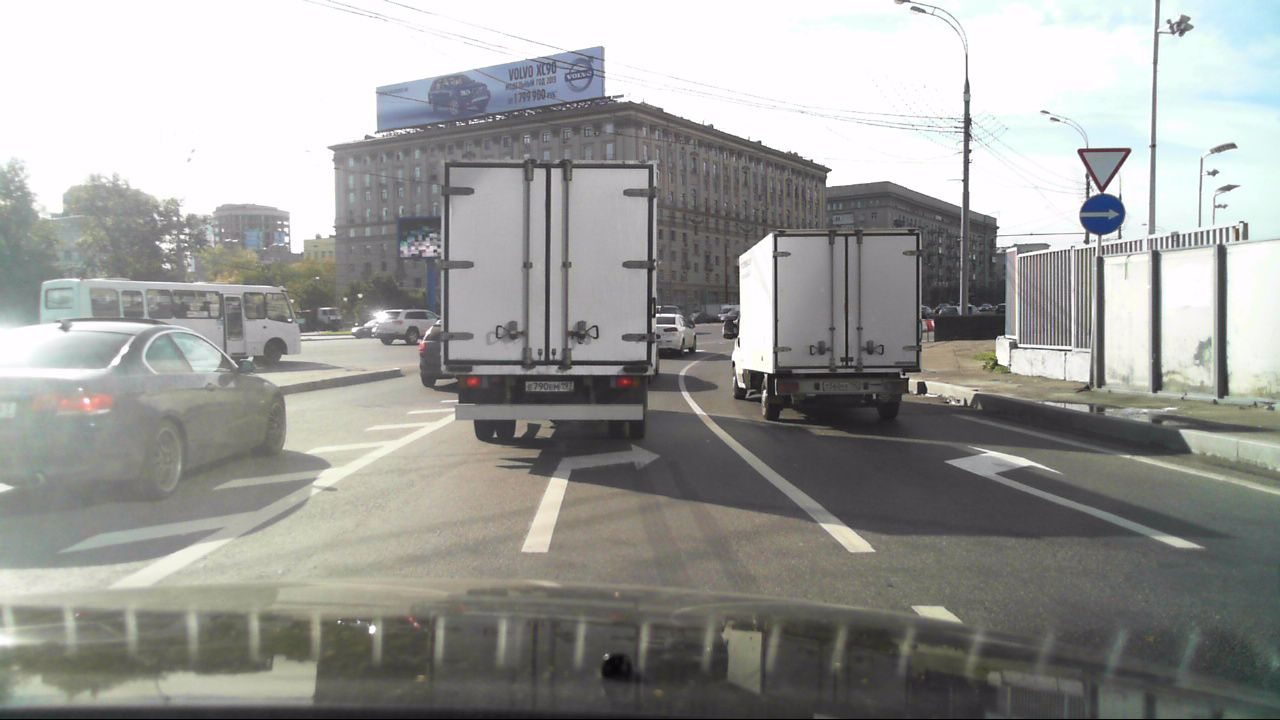Turn Right: (1079, 194, 1126, 235)
